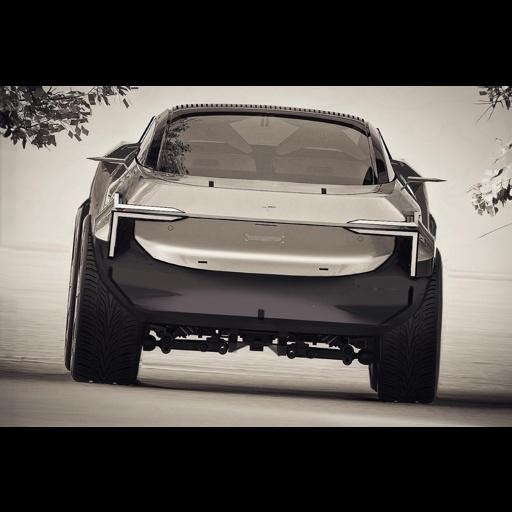suv: (64, 103, 441, 402)
